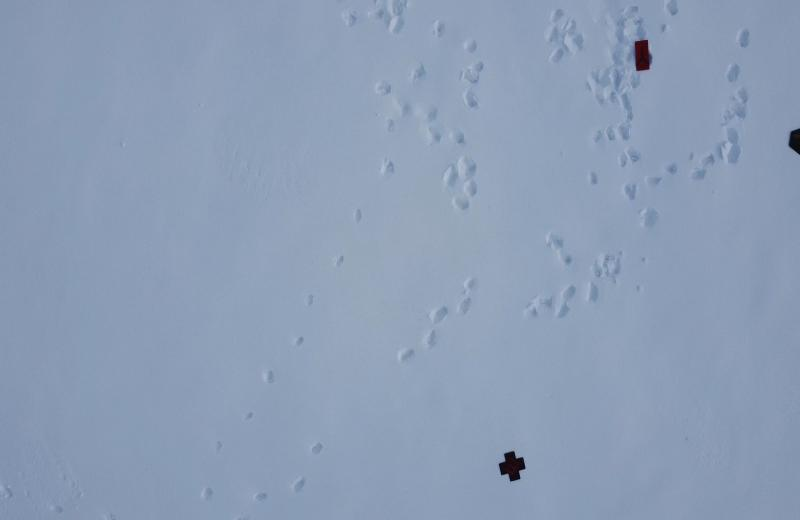Cross: (498, 448, 528, 485)
Rectangle: (630, 40, 661, 77)
